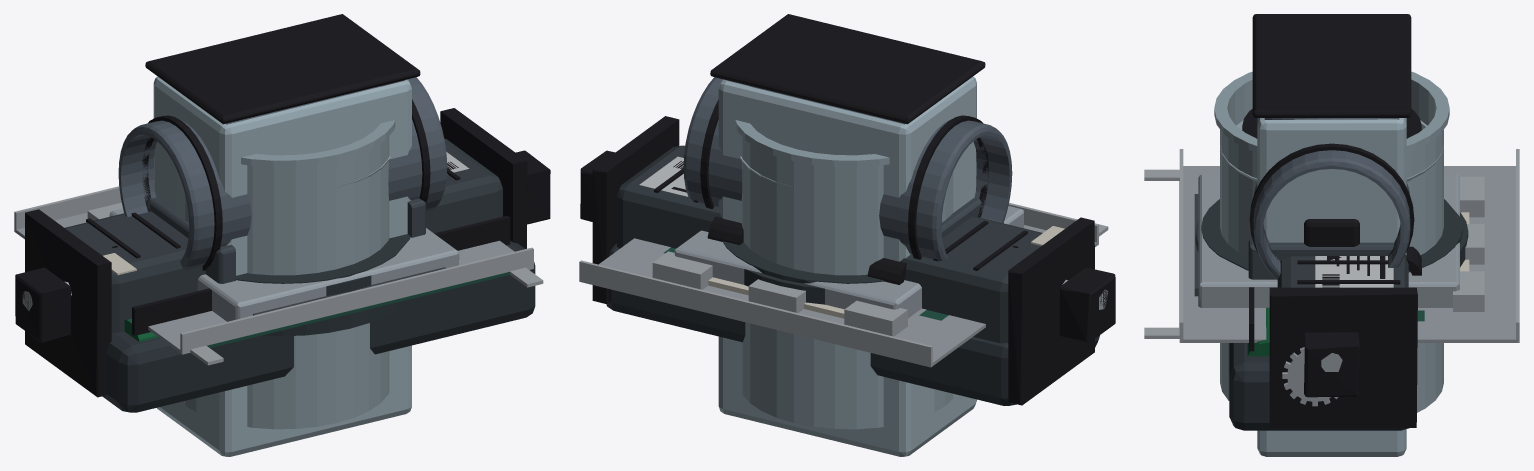
File: dispositivos.glb
The picture shows the model from 3 angles, left to right: view 1: azimuth 30°, elevation 25°; view 2: azimuth 150°, elevation 25°; view 3: azimuth 270°, elevation 25°; orthographic projection.
Parts seen in each view (by area): view 1: deposito_agua, cartucho_toner, deposito_polvo, boquilla_suelo, carcasa_secador, blindaje_metalico, unidad_optica, riel_lineal, difusor_secador, carro_impresion, placa_consola; view 2: deposito_agua, cartucho_toner, deposito_polvo, carcasa_secador, blindaje_metalico, boquilla_suelo, unidad_optica, placa_consola, riel_lineal, difusor_secador, carro_impresion; view 3: deposito_agua, cartucho_toner, blindaje_metalico, deposito_polvo, unidad_optica, carcasa_secador, boquilla_suelo, riel_lineal, placa_consola, difusor_secador, carro_impresion, separador_ciclon.
Boxes of the visible parts, bbox=[...] form: deposito_agua: bbox=[145, 14, 420, 456]; cartucho_toner: bbox=[25, 108, 527, 397]; deposito_polvo: bbox=[177, 120, 395, 429]; boquilla_suelo: bbox=[102, 240, 535, 412]; carcasa_secador: bbox=[118, 77, 447, 270]; blindaje_metalico: bbox=[14, 186, 543, 365]; unidad_optica: bbox=[109, 208, 459, 321]; riel_lineal: bbox=[15, 150, 550, 342]; difusor_secador: bbox=[236, 234, 410, 336]; carro_impresion: bbox=[149, 197, 425, 283]; placa_consola: bbox=[87, 202, 509, 347]; deposito_agua: bbox=[710, 14, 985, 456]; cartucho_toner: bbox=[592, 116, 1094, 405]; deposito_polvo: bbox=[735, 120, 953, 429]; carcasa_secador: bbox=[683, 77, 1012, 261]; blindaje_metalico: bbox=[579, 202, 1108, 367]; boquilla_suelo: bbox=[606, 243, 1099, 405]; unidad_optica: bbox=[674, 206, 1023, 318]; placa_consola: bbox=[652, 247, 948, 336]; riel_lineal: bbox=[580, 150, 1115, 342]; difusor_secador: bbox=[722, 241, 884, 304]; carro_impresion: bbox=[707, 197, 981, 284]; deposito_agua: bbox=[1252, 14, 1411, 456]; cartucho_toner: bbox=[1247, 254, 1417, 427]; blindaje_metalico: bbox=[1144, 149, 1519, 342]; deposito_polvo: bbox=[1214, 71, 1449, 412]; unidad_optica: bbox=[1194, 174, 1469, 307]; carcasa_secador: bbox=[1249, 118, 1414, 279]; boquilla_suelo: bbox=[1229, 343, 1409, 430]; riel_lineal: bbox=[1304, 332, 1359, 397]; placa_consola: bbox=[1179, 176, 1484, 327]; difusor_secador: bbox=[1195, 199, 1468, 272]; carro_impresion: bbox=[1248, 239, 1421, 279]; separador_ciclon: bbox=[1242, 109, 1421, 138].
Bounding box in the file's own units: 32 × 21.75 × 20.1.
